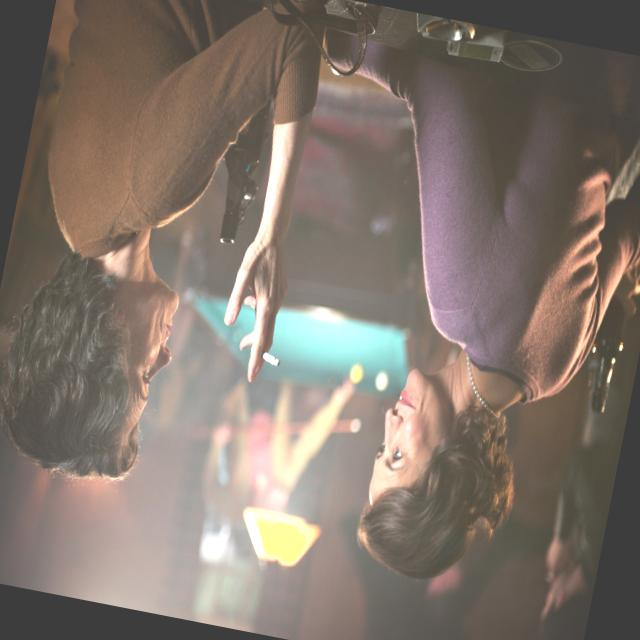cigarette: (252, 349, 294, 386)
